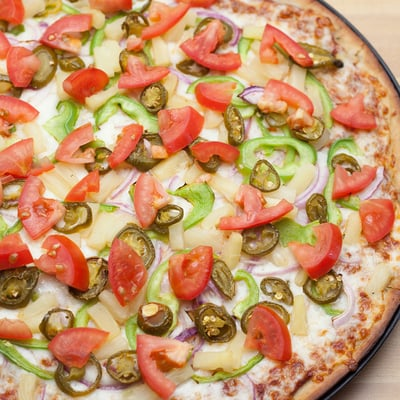sandwich: (0, 1, 400, 400)
